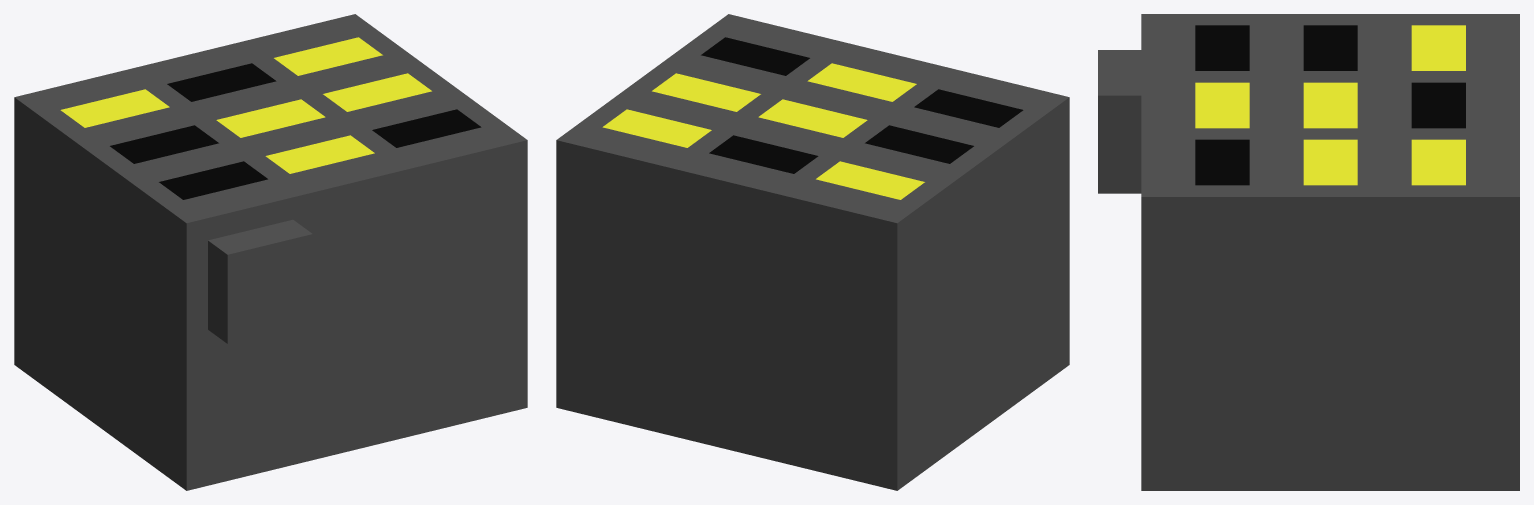
Rendered from building_1_night.dae.
3 renders of one model, left to right at view 1: azimuth 30°, elevation 25°; view 2: azimuth 150°, elevation 25°; view 3: azimuth 270°, elevation 25°, orthographic. The views are drawn at different scales.
Visible parts, largest first — view 1: coords_ME_ID45_MA_material, coords_ME_ID3_MA_material, coords_ME_ID111_MA_material_9, coords_ME_ID93_MA_material_9, coords_ME_ID81_MA_material_9, coords_ME_ID63_MA_material_3, coords_ME_ID75_MA_material_3, coords_ME_ID25_MA_material_3, coords_ME_ID11_MA_material_3, coords_ME_ID105_MA_material_3, coords_ME_ID57_MA_material_9; view 2: coords_ME_ID45_MA_material, coords_ME_ID111_MA_material_9, coords_ME_ID81_MA_material_9, coords_ME_ID75_MA_material_3, coords_ME_ID63_MA_material_3, coords_ME_ID93_MA_material_9, coords_ME_ID57_MA_material_9, coords_ME_ID25_MA_material_3, coords_ME_ID105_MA_material_3, coords_ME_ID11_MA_material_3; view 3: coords_ME_ID45_MA_material, coords_ME_ID3_MA_material, coords_ME_ID81_MA_material_9, coords_ME_ID75_MA_material_3, coords_ME_ID105_MA_material_3, coords_ME_ID93_MA_material_9, coords_ME_ID63_MA_material_3, coords_ME_ID25_MA_material_3, coords_ME_ID111_MA_material_9, coords_ME_ID57_MA_material_9, coords_ME_ID11_MA_material_3.
Part boxes in pixels (<box>): coords_ME_ID45_MA_material: <box>14,14,527,490</box>; coords_ME_ID3_MA_material: <box>208,219,312,343</box>; coords_ME_ID111_MA_material_9: <box>110,125,218,163</box>; coords_ME_ID93_MA_material_9: <box>167,63,276,101</box>; coords_ME_ID81_MA_material_9: <box>372,109,481,147</box>; coords_ME_ID63_MA_material_3: <box>274,37,382,75</box>; coords_ME_ID75_MA_material_3: <box>265,135,374,173</box>; coords_ME_ID25_MA_material_3: <box>216,99,325,137</box>; coords_ME_ID11_MA_material_3: <box>60,89,169,127</box>; coords_ME_ID105_MA_material_3: <box>323,73,431,111</box>; coords_ME_ID57_MA_material_9: <box>159,161,267,199</box>; coords_ME_ID45_MA_material: <box>556,14,1069,490</box>; coords_ME_ID111_MA_material_9: <box>865,125,973,163</box>; coords_ME_ID81_MA_material_9: <box>701,37,809,75</box>; coords_ME_ID75_MA_material_3: <box>807,63,916,101</box>; coords_ME_ID63_MA_material_3: <box>602,109,711,147</box>; coords_ME_ID93_MA_material_9: <box>709,135,818,173</box>; coords_ME_ID57_MA_material_9: <box>914,89,1023,127</box>; coords_ME_ID25_MA_material_3: <box>758,99,867,137</box>; coords_ME_ID105_MA_material_3: <box>652,73,760,111</box>; coords_ME_ID11_MA_material_3: <box>816,161,924,199</box>; coords_ME_ID45_MA_material: <box>1141,14,1519,490</box>; coords_ME_ID3_MA_material: <box>1098,50,1141,193</box>; coords_ME_ID81_MA_material_9: <box>1195,139,1249,185</box>; coords_ME_ID75_MA_material_3: <box>1195,82,1249,128</box>; coords_ME_ID105_MA_material_3: <box>1303,139,1357,185</box>; coords_ME_ID93_MA_material_9: <box>1411,82,1465,128</box>; coords_ME_ID63_MA_material_3: <box>1411,139,1465,185</box>; coords_ME_ID25_MA_material_3: <box>1303,82,1357,128</box>; coords_ME_ID111_MA_material_9: <box>1303,25,1357,70</box>; coords_ME_ID57_MA_material_9: <box>1195,25,1249,70</box>; coords_ME_ID11_MA_material_3: <box>1411,25,1465,70</box>.
Size of the model in its own units: 126 by 94.49 by 123.
